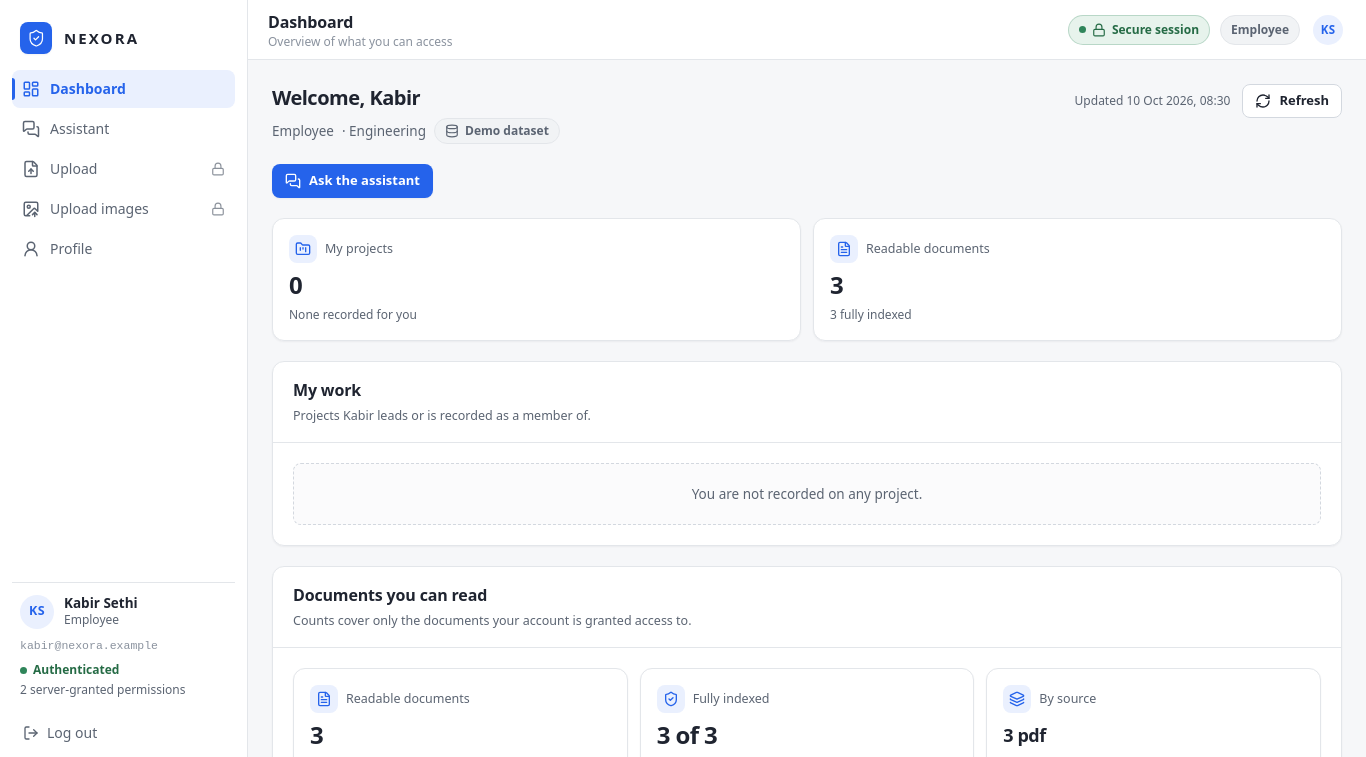
Test: dashboard routing and navigation › keeps the Assistant and the upload pages reachable, and locked uploads stay locked
This screenshot has width=1366, height=757.
Click the link "Ask the assistant" at (352, 181), box [272, 164, 433, 198]
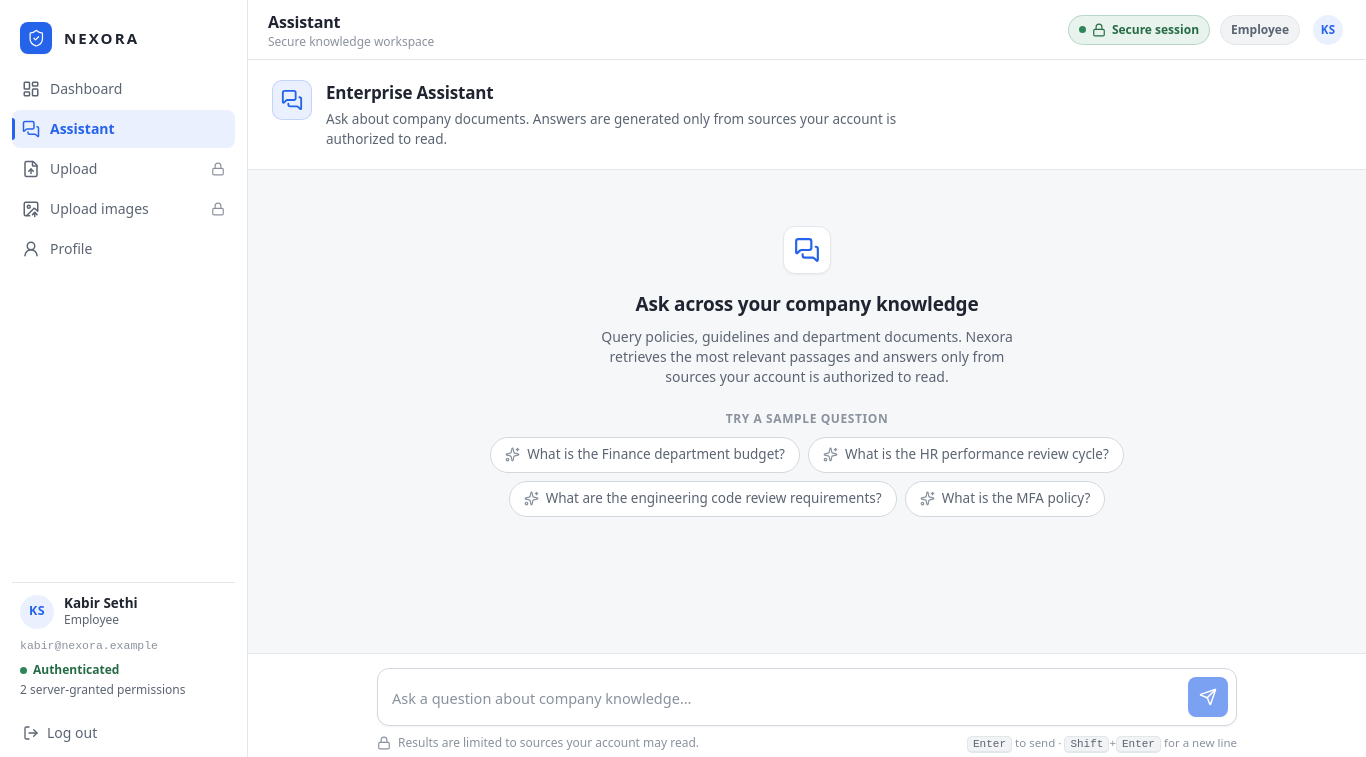
Now the heading "Assistant" is shown, box [268, 10, 340, 32]
